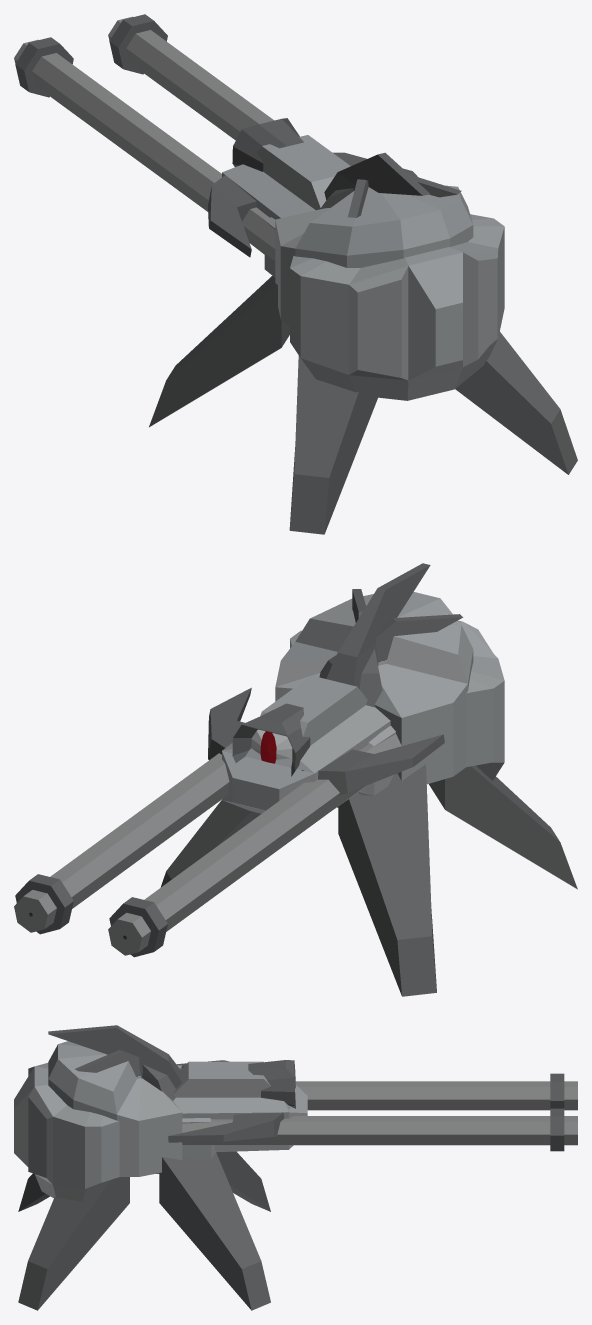
File: Paulus.gltf
The picture shows the model from 3 angles, top to bottom: view 1: azimuth 30°, elevation 25°; view 2: azimuth 150°, elevation 25°; view 3: azimuth 270°, elevation 25°; orthographic projection. The views are drawn at different scales.
Parts seen in each view (by area): view 1: P.A.U.L, P.A.U.L_selection; view 2: P.A.U.L, P.A.U.L_selection; view 3: P.A.U.L, P.A.U.L_selection.
Boxes of the visible parts, x1,y1,x2,y2 form: P.A.U.L: [14, 14, 504, 400]; P.A.U.L_selection: [149, 276, 577, 534]; P.A.U.L: [14, 563, 504, 957]; P.A.U.L_selection: [160, 764, 577, 996]; P.A.U.L: [14, 1025, 577, 1201]; P.A.U.L_selection: [18, 1151, 270, 1310].
Bounding box in the file's own units: 2.3 × 2.31 × 5.13.
1 material, 1 textured.
